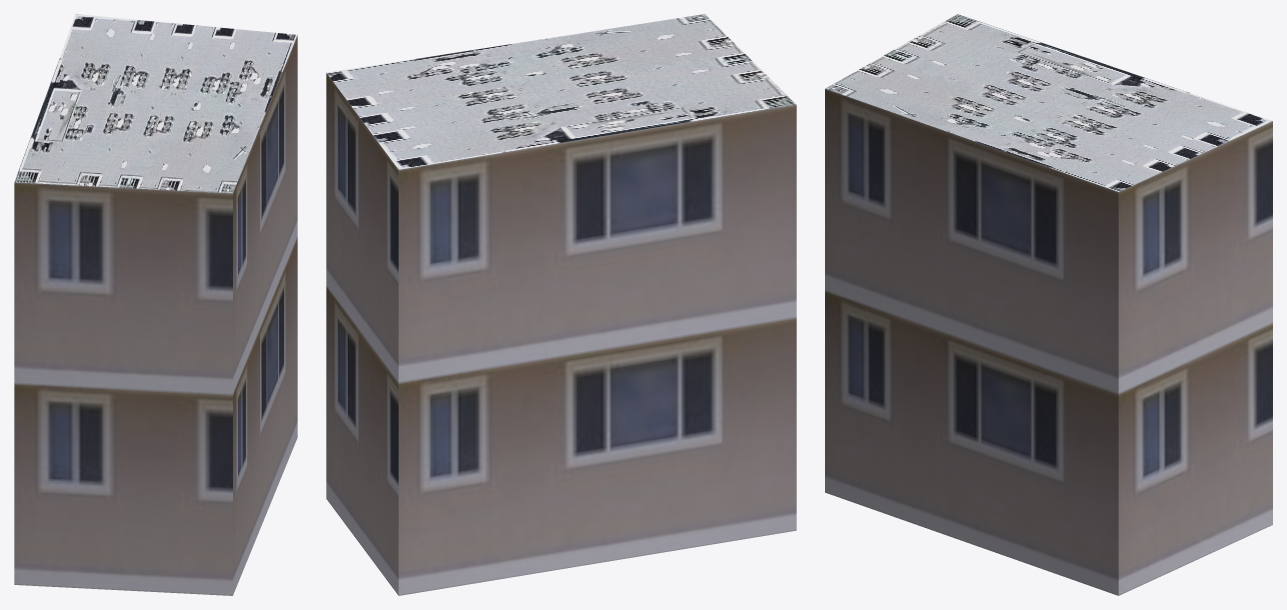
The model's file is ResTex__3761.fbx.
The picture shows the model from 3 angles, left to right: view 1: azimuth 30°, elevation 25°; view 2: azimuth 150°, elevation 25°; view 3: azimuth 270°, elevation 25°; orthographic projection. The views are drawn at different scales.
Parts seen in each view (by area): view 1: CityEngineMaterial_21_m, CityEngineMaterial_2_m; view 2: CityEngineMaterial_21_m, CityEngineMaterial_2_m; view 3: CityEngineMaterial_21_m, CityEngineMaterial_2_m.
Boxes of the visible parts, left/top/right/bottom form: CityEngineMaterial_21_m: left=14, top=35, right=297, bottom=595; CityEngineMaterial_2_m: left=14, top=14, right=297, bottom=193; CityEngineMaterial_21_m: left=326, top=73, right=796, bottom=595; CityEngineMaterial_2_m: left=327, top=14, right=795, bottom=169; CityEngineMaterial_21_m: left=825, top=89, right=1272, bottom=595; CityEngineMaterial_2_m: left=825, top=14, right=1272, bottom=191.
Size of the model in its own units: 5.67 by 6 by 6.03.
2 materials, 2 textured.
